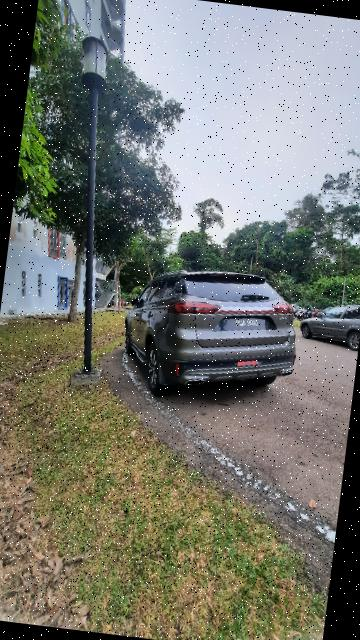License_Plate: (211, 306, 281, 343)
car: (111, 258, 311, 415)
